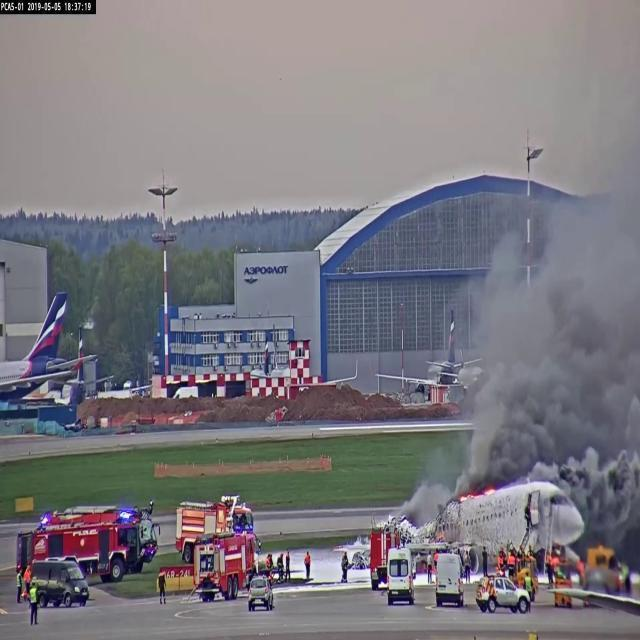Smoke: (491, 359, 565, 482), (568, 446, 640, 523)
